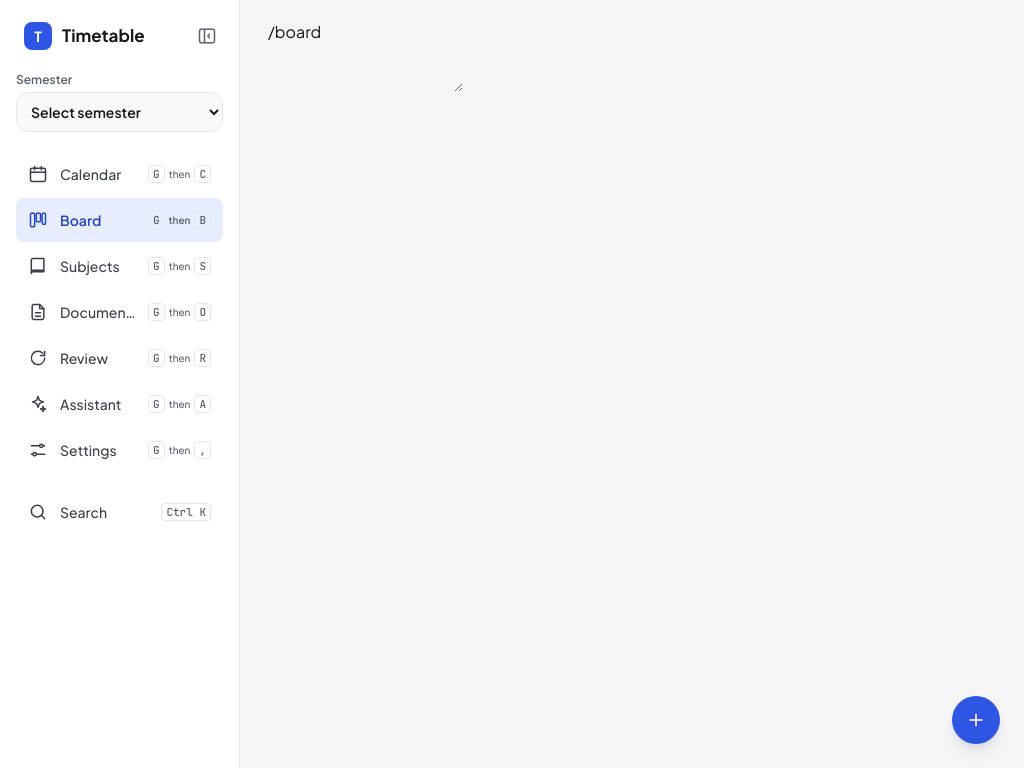
SearchPalette › navigates for a subject
The image size is (1024, 768).
Type keys "/"
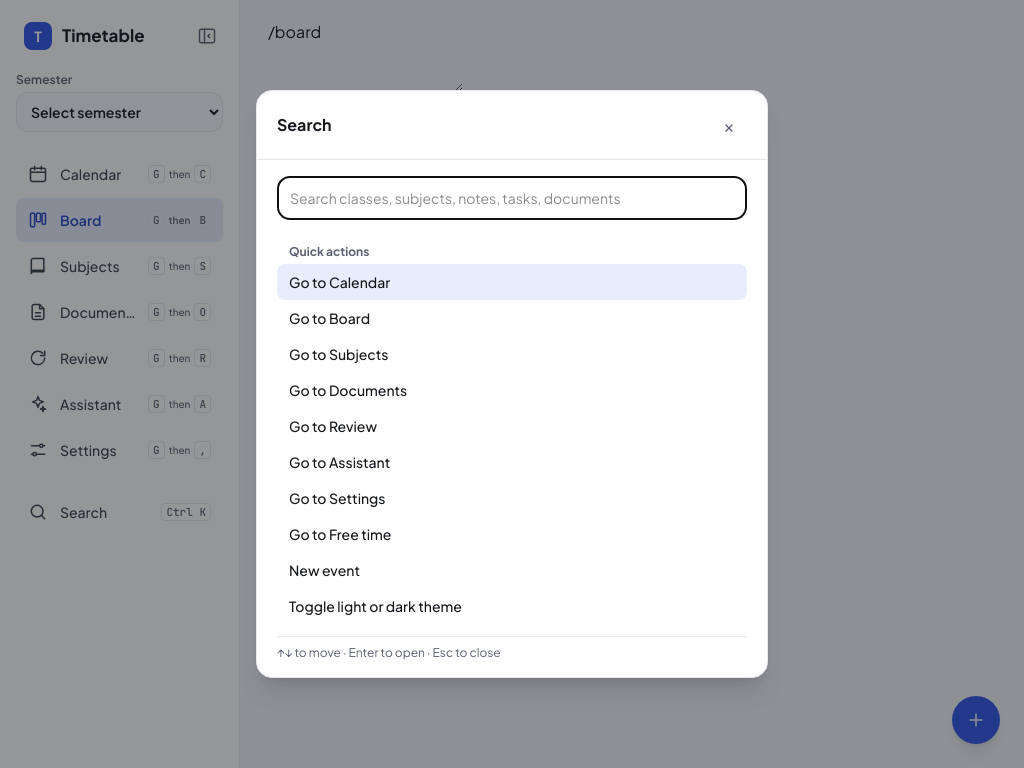
Type "python" into the dropdown labelled "Search".
click(512, 198); type("python")  # box [277,176,747,220]
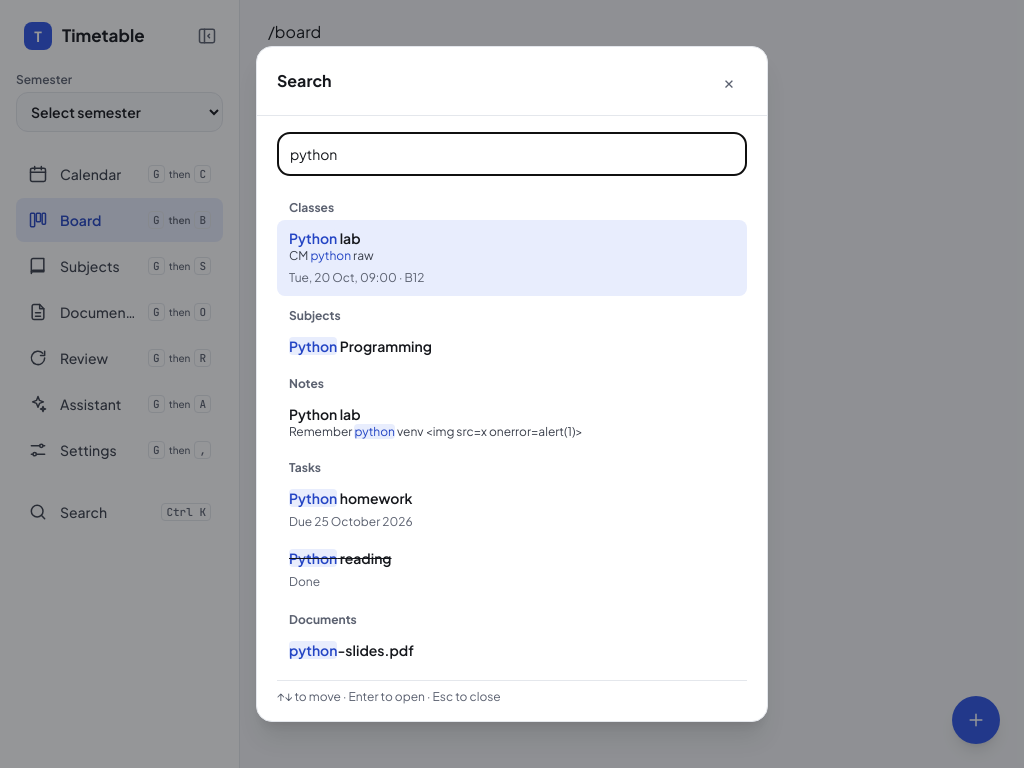
Click the option "Python Programming".
click(360, 346)  # box [289,337,432,355]
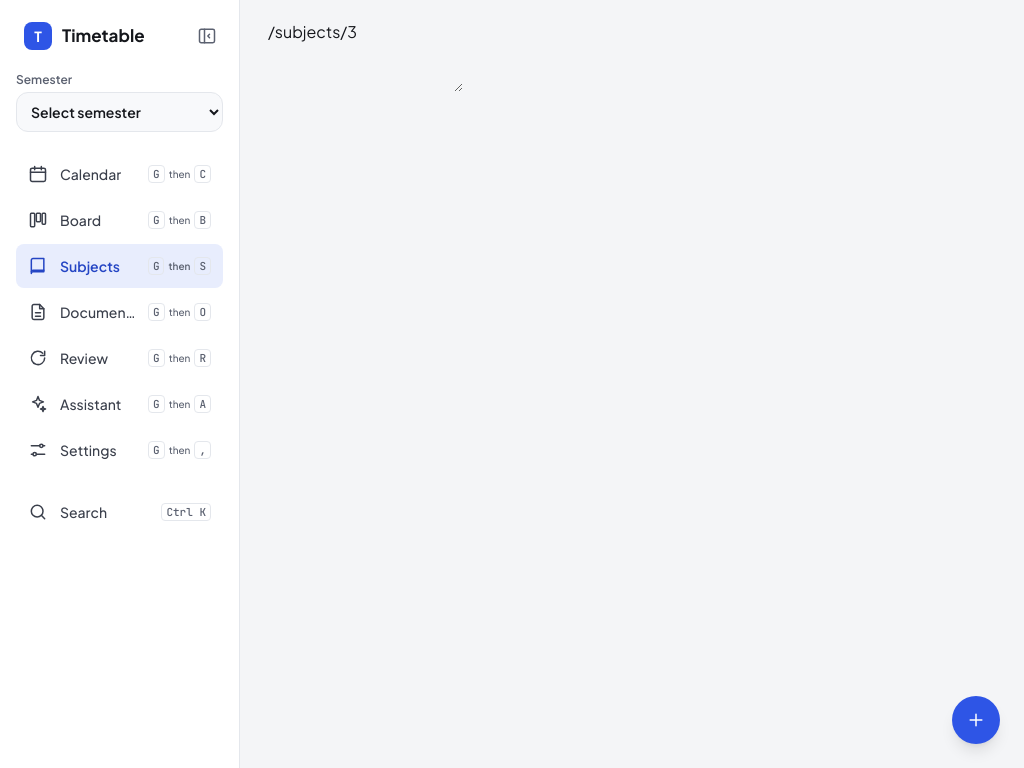
Expected: the text with test id "path" reads "/subjects/3", [268,21,357,42]
